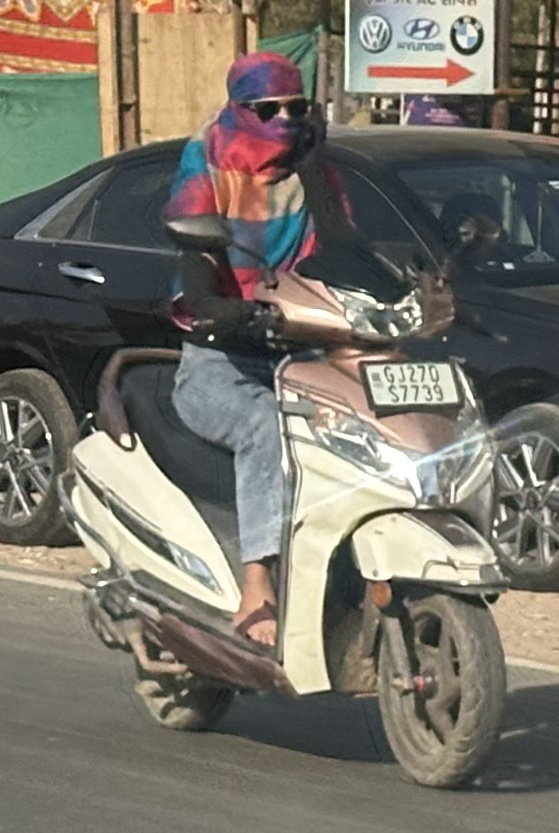BikeWithRider: (56, 45, 506, 791)
NoHelmet: (225, 49, 316, 163)
